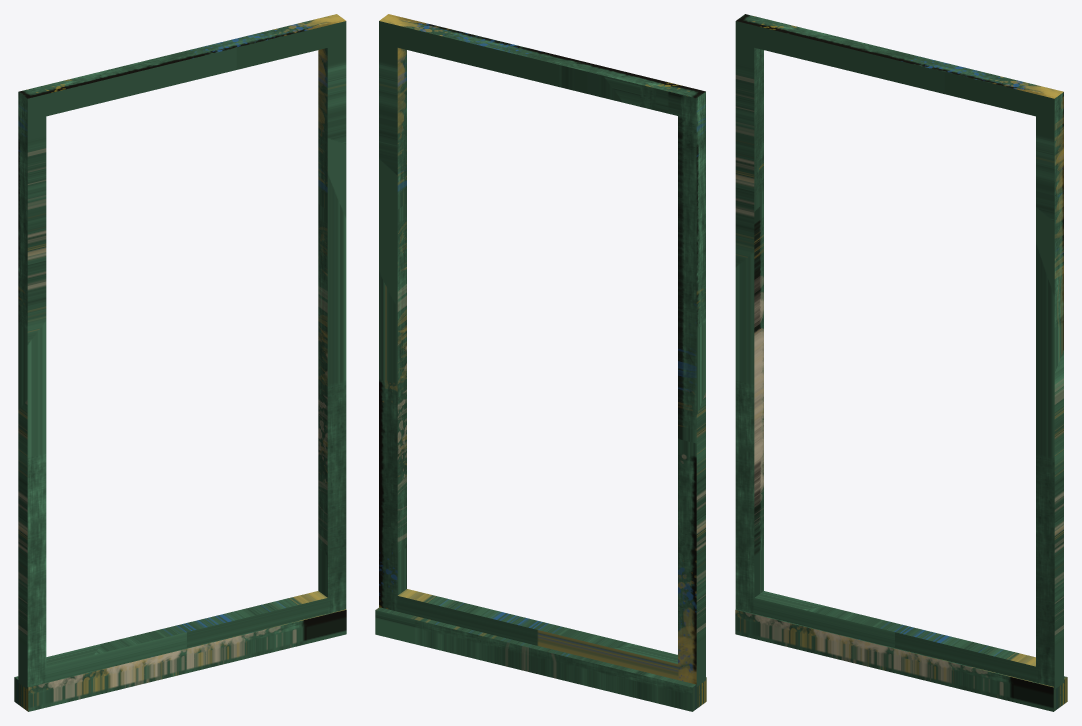
The model's file is rama okna3.obj.
The picture shows the model from 3 angles, left to right: view 1: azimuth 30°, elevation 25°; view 2: azimuth 150°, elevation 25°; view 3: azimuth 330°, elevation 25°; orthographic projection.
Visible parts, largest first — view 1: Cube.046_Cube.048; view 2: Cube.046_Cube.048; view 3: Cube.046_Cube.048.
Boxes of the visible parts, x1,y1,x2,y2 form: Cube.046_Cube.048: (14, 14, 346, 711); Cube.046_Cube.048: (375, 14, 706, 711); Cube.046_Cube.048: (735, 14, 1067, 711).
Bounding box in the file's own units: 0.7931 × 1.46 × 0.0606.
Materials: 1 (1 with a texture image).
